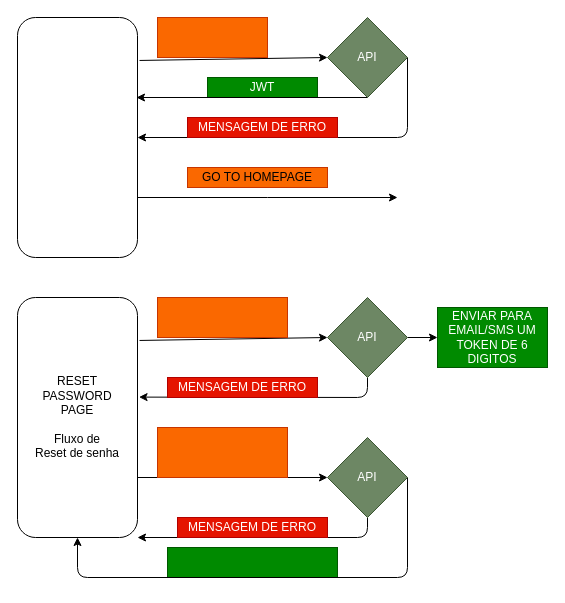
Image size: 565x603. Some labels were removed from this diagram. The centre of each missing label's shape, as x and y in pixels:
"/auth/login { usuario, senha }" goes at (212,37).
"/auth/request/reset { usuario }" goes at (222,317).
"/auth/reset { usuario, token, nova_senha }" goes at (222,452).
"LOGIN PAGE Fluxo de Login" goes at (77,137).
"MENSAGEM DE SUCESSO" goes at (252,562).
